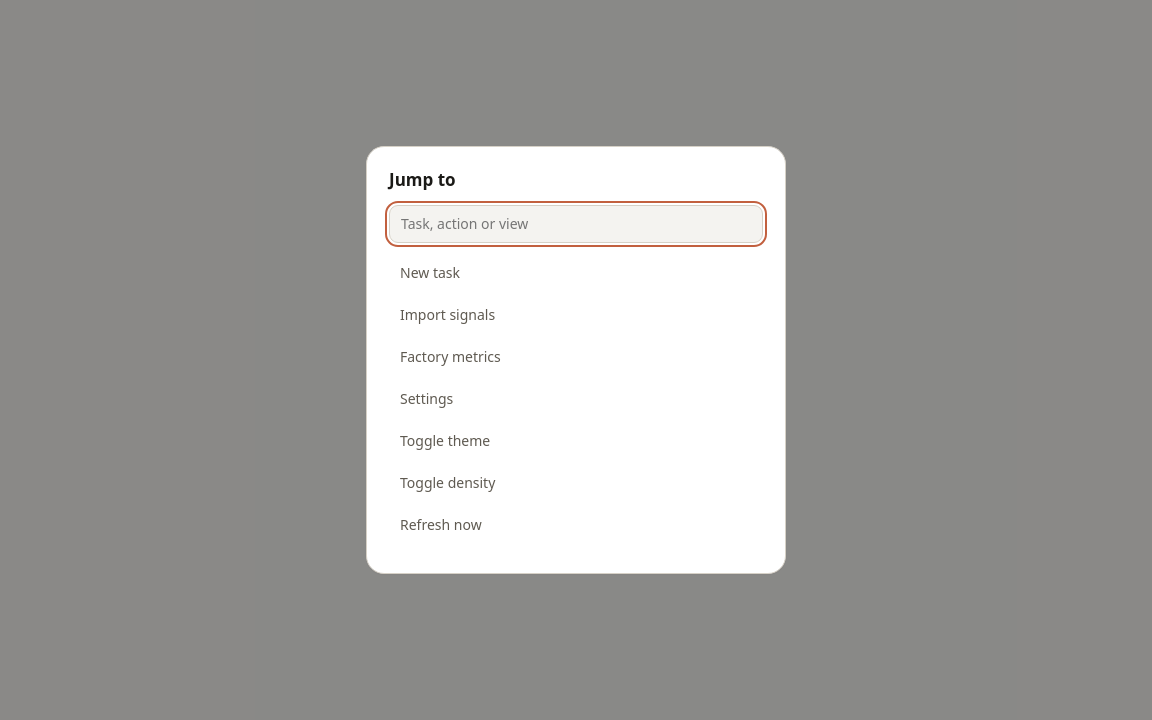
it: dialogs and overlays › filters palette actions and selects a task
Later steps or results of the test are not shown.
Expected: the button "New task" is shown, [389,253,763,292]
Click the button "Settings".
click(427, 398)  # box [389,379,763,418]
Type "queue" into the field named "Command palette search".
click(576, 224); type("queue")  # box [389,205,763,243]
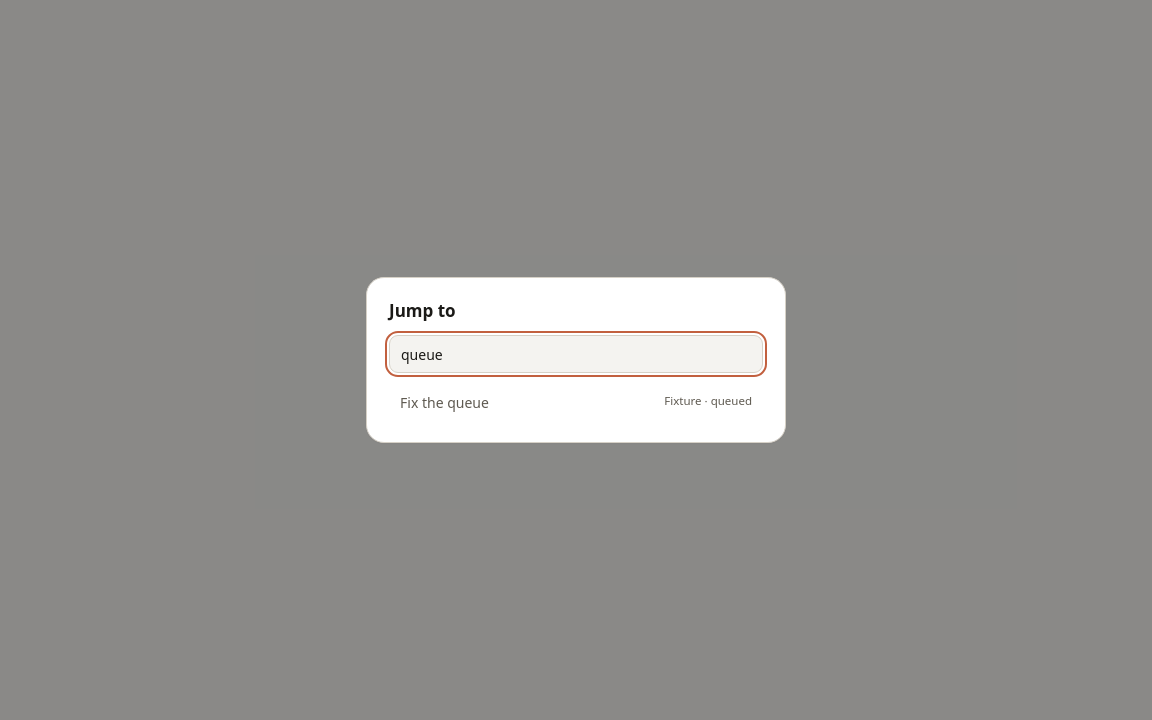
Now the button "Settings" is gone
